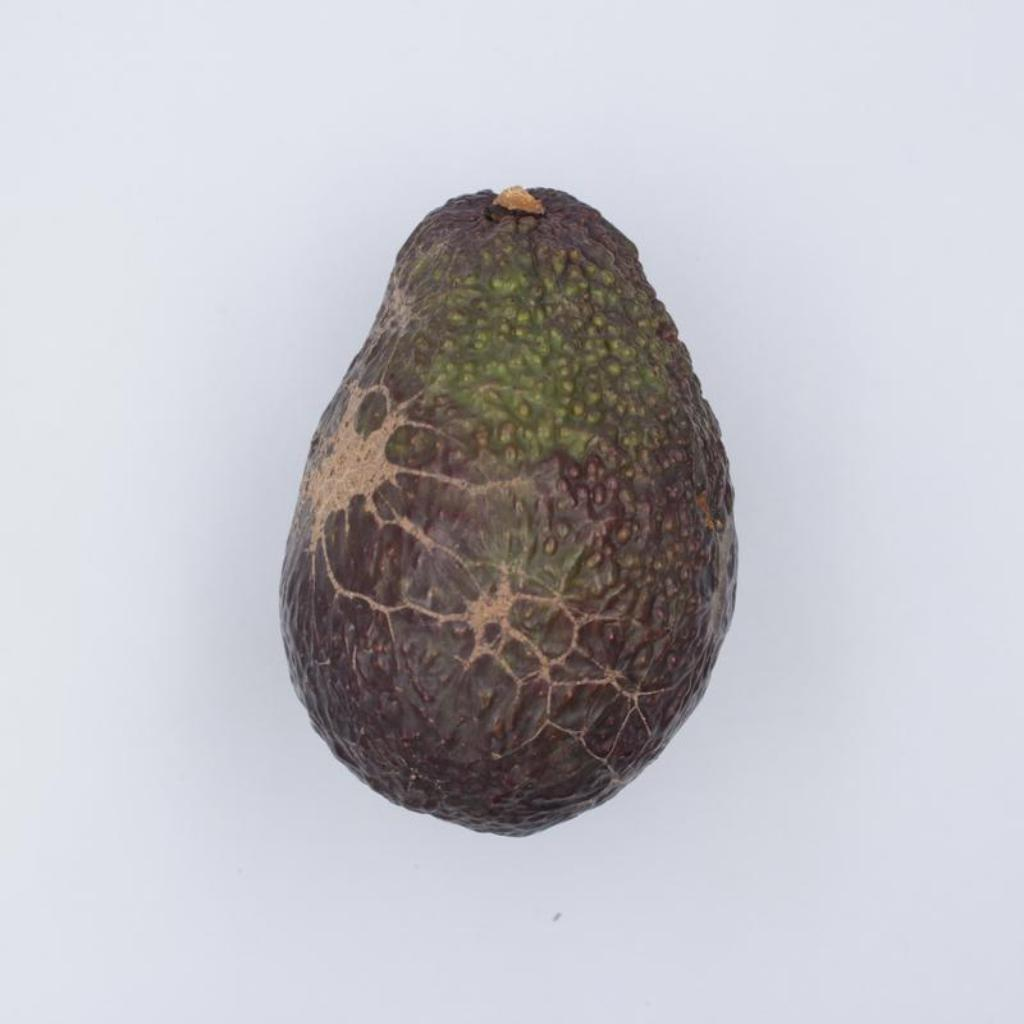rona: (282, 188, 736, 835)
